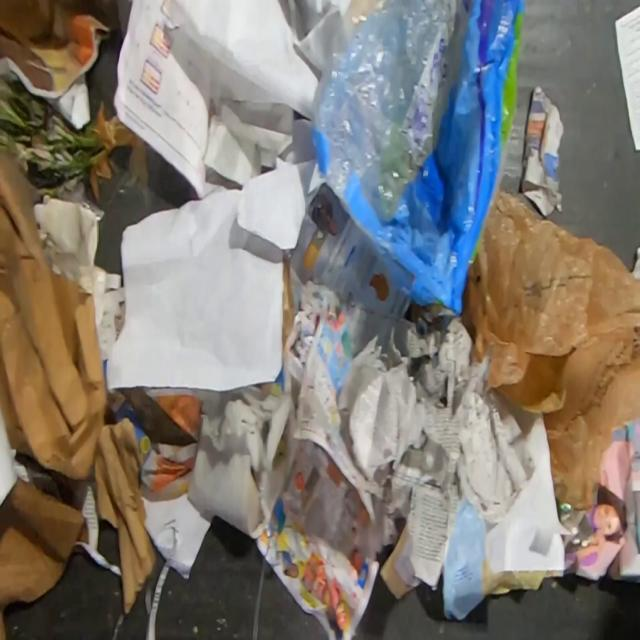cardboard: (0, 143, 115, 480), (0, 477, 88, 640), (92, 417, 158, 617)
soft_plastic: (310, 0, 527, 319), (458, 185, 640, 512)
